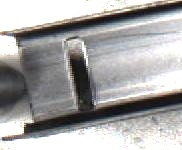40ngpress: (0, 12, 130, 139)
